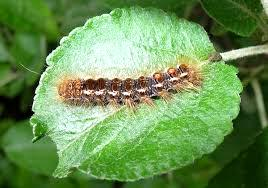Caterpillar: (53, 55, 195, 119)
